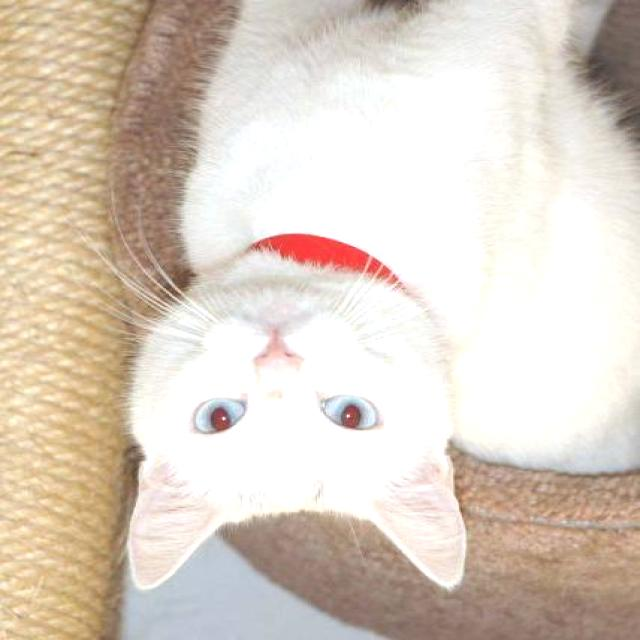Kucing: (51, 21, 640, 614)
